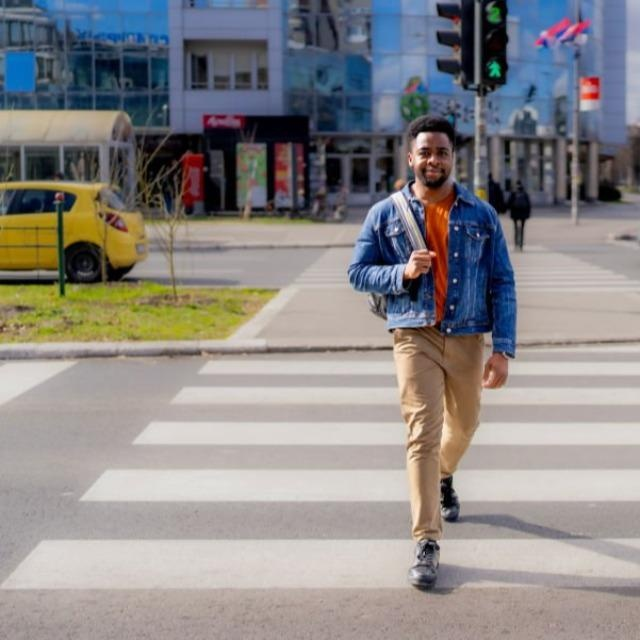Sin_Casco_Mascarrilla: (407, 114, 458, 189)
Sin_Chaleco: (372, 186, 499, 334)
